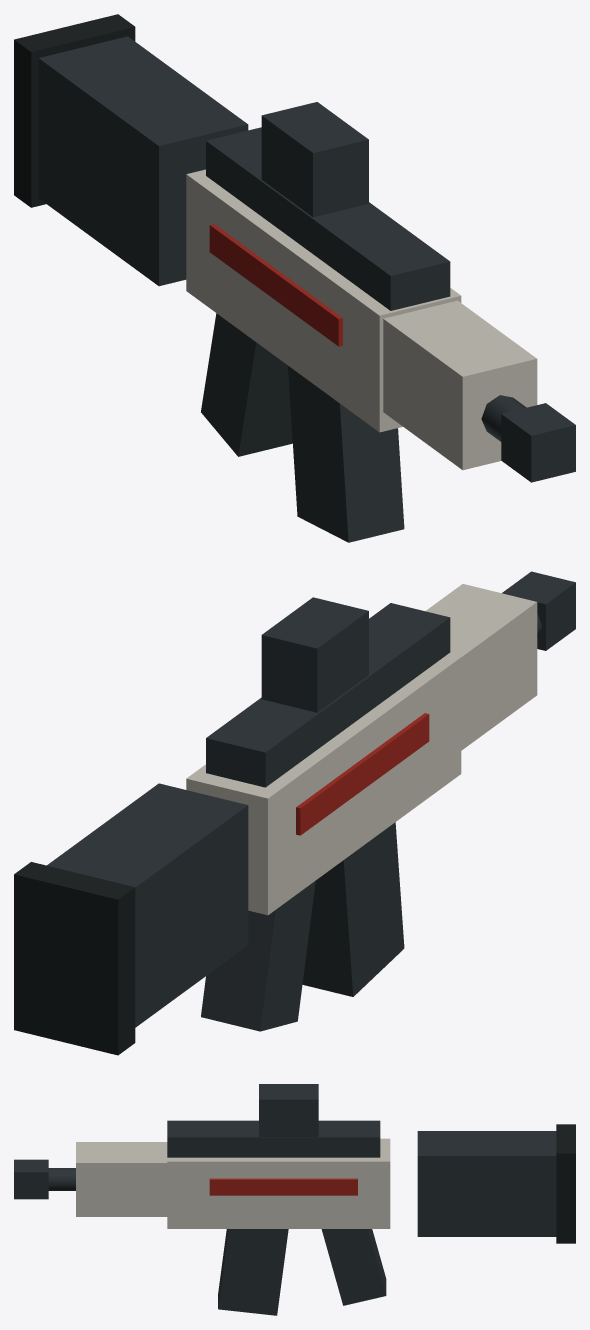
The picture shows the model from 3 angles, top to bottom: view 1: azimuth 30°, elevation 25°; view 2: azimuth 150°, elevation 25°; view 3: azimuth 270°, elevation 25°; orthographic projection. The views are drawn at different scales.
Visible parts, largest first — view 1: field-rifle-painted; view 2: field-rifle-painted; view 3: field-rifle-painted.
Boxes of the visible parts, x1,y1,x2,y2 form: field-rifle-painted: [14, 14, 575, 542]; field-rifle-painted: [14, 571, 575, 1055]; field-rifle-painted: [14, 1084, 575, 1315].
Bounding box in the file's own units: 0.6817 × 2.34 × 5.53.
